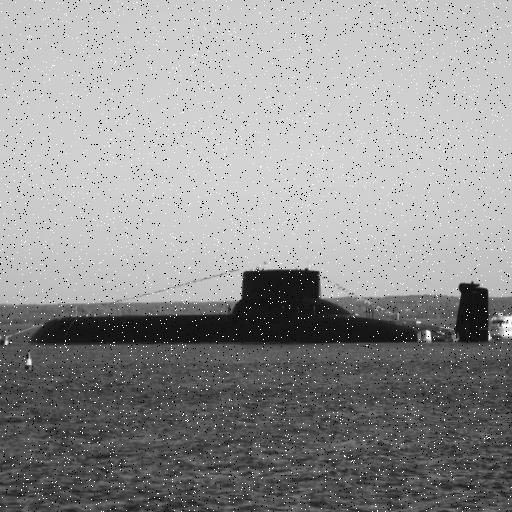submarine: (24, 266, 491, 343)
